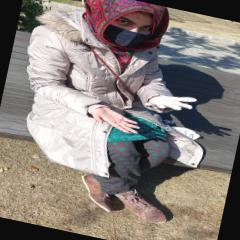gloved: (146, 89, 196, 116)
not-gloved: (92, 106, 144, 136)
